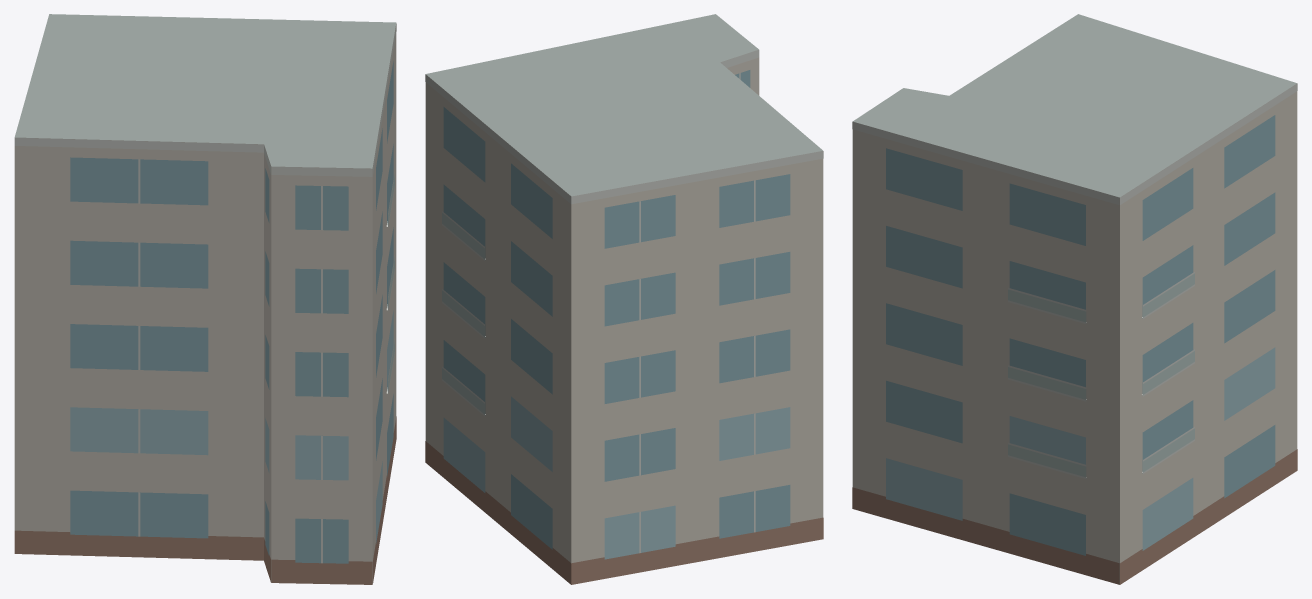
Rendered from survey-upis-33001702.glb.
The picture shows the model from 3 angles, left to right: view 1: azimuth 30°, elevation 25°; view 2: azimuth 150°, elevation 25°; view 3: azimuth 270°, elevation 25°; orthographic projection. The views are drawn at different scales.
Visible parts, largest first — view 1: survey-upis-33001702.tmp; view 2: survey-upis-33001702.tmp; view 3: survey-upis-33001702.tmp.
Boxes of the visible parts, x1=… form: survey-upis-33001702.tmp: x1=14, y1=14, x2=396, y2=584; survey-upis-33001702.tmp: x1=425, y1=14, x2=823, y2=584; survey-upis-33001702.tmp: x1=852, y1=14, x2=1297, y2=584.
Bounding box in the file's own units: 12.3 × 12.1 × 12.6.
